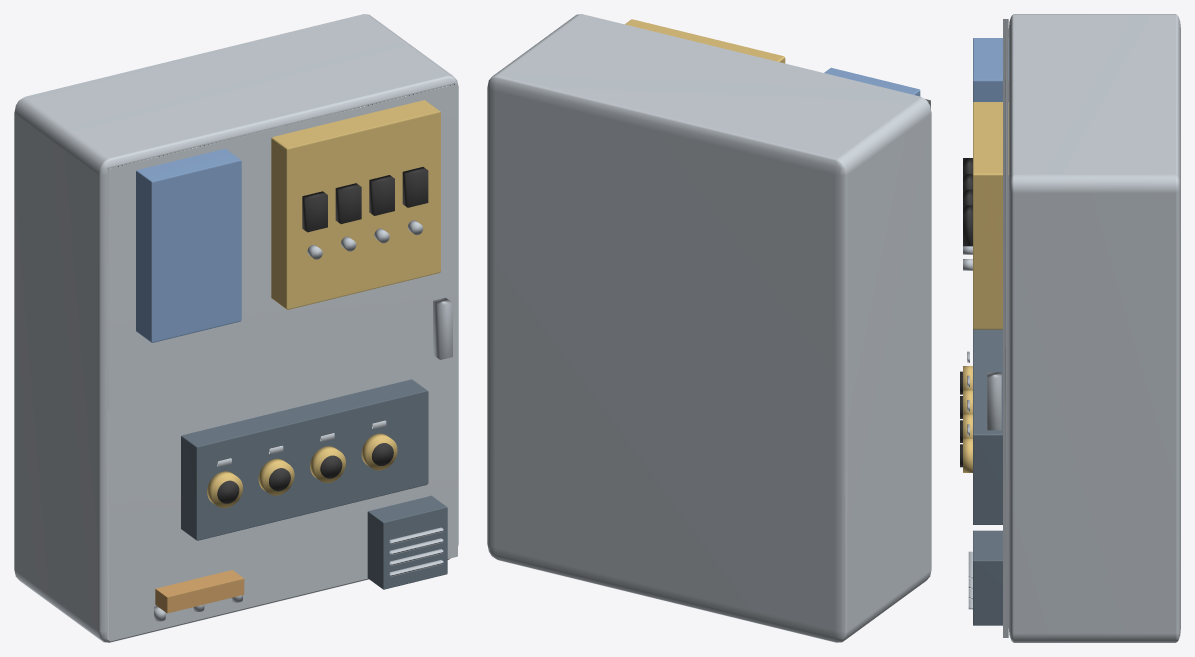
File: reefer_distribution.glb
3 views of the same model, side by side, from view 1: azimuth 30°, elevation 25°; view 2: azimuth 150°, elevation 25°; view 3: azimuth 270°, elevation 25° (orthographic). The views are drawn at different scales.
Parts seen in each view (by area): view 1: Cabinet_Door_Trim, Reefer_Distribution_Cabinet, Outlet_Protection, Reefer_Sockets, Incoming_Feeder, Deck_Cable_Route, Earth_Terminal_Bar, Cabinet_Handle, Protection_Switch_2, Protection_Switch_4, Protection_Switch_1, Protection_Switch_3 (+4 smaller); view 2: Reefer_Distribution_Cabinet, Outlet_Protection, Incoming_Feeder; view 3: Reefer_Distribution_Cabinet, Outlet_Protection, Reefer_Sockets, Cabinet_Door_Trim, Deck_Cable_Route, Incoming_Feeder, Cabinet_Handle, Protection_Switch_4, Socket_Ring_4.
Part boxes in pixels (x1,y1,x2,y2): Cabinet_Door_Trim: [107, 83, 457, 641]; Reefer_Distribution_Cabinet: [14, 14, 458, 642]; Outlet_Protection: [271, 100, 440, 309]; Reefer_Sockets: [181, 379, 428, 540]; Incoming_Feeder: [136, 148, 241, 342]; Deck_Cable_Route: [367, 495, 447, 589]; Earth_Terminal_Bar: [155, 570, 244, 613]; Cabinet_Handle: [433, 297, 452, 359]; Protection_Switch_2: [335, 183, 361, 223]; Protection_Switch_4: [402, 167, 428, 207]; Protection_Switch_1: [302, 191, 327, 232]; Protection_Switch_3: [369, 175, 394, 215]; Reefer_Distribution_Cabinet: [487, 14, 931, 642]; Outlet_Protection: [625, 19, 785, 63]; Incoming_Feeder: [824, 67, 920, 96]; Reefer_Distribution_Cabinet: [1008, 14, 1180, 642]; Outlet_Protection: [973, 102, 1008, 329]; Reefer_Sockets: [973, 329, 1002, 524]; Cabinet_Door_Trim: [1003, 19, 1008, 637]; Deck_Cable_Route: [973, 530, 1002, 625]; Incoming_Feeder: [973, 38, 1008, 101]; Cabinet_Handle: [987, 372, 1001, 430]; Protection_Switch_4: [963, 205, 972, 246]; Socket_Ring_4: [963, 438, 972, 472].
Size of the model in its own units: 1.4 by 1.8 by 0.77.
